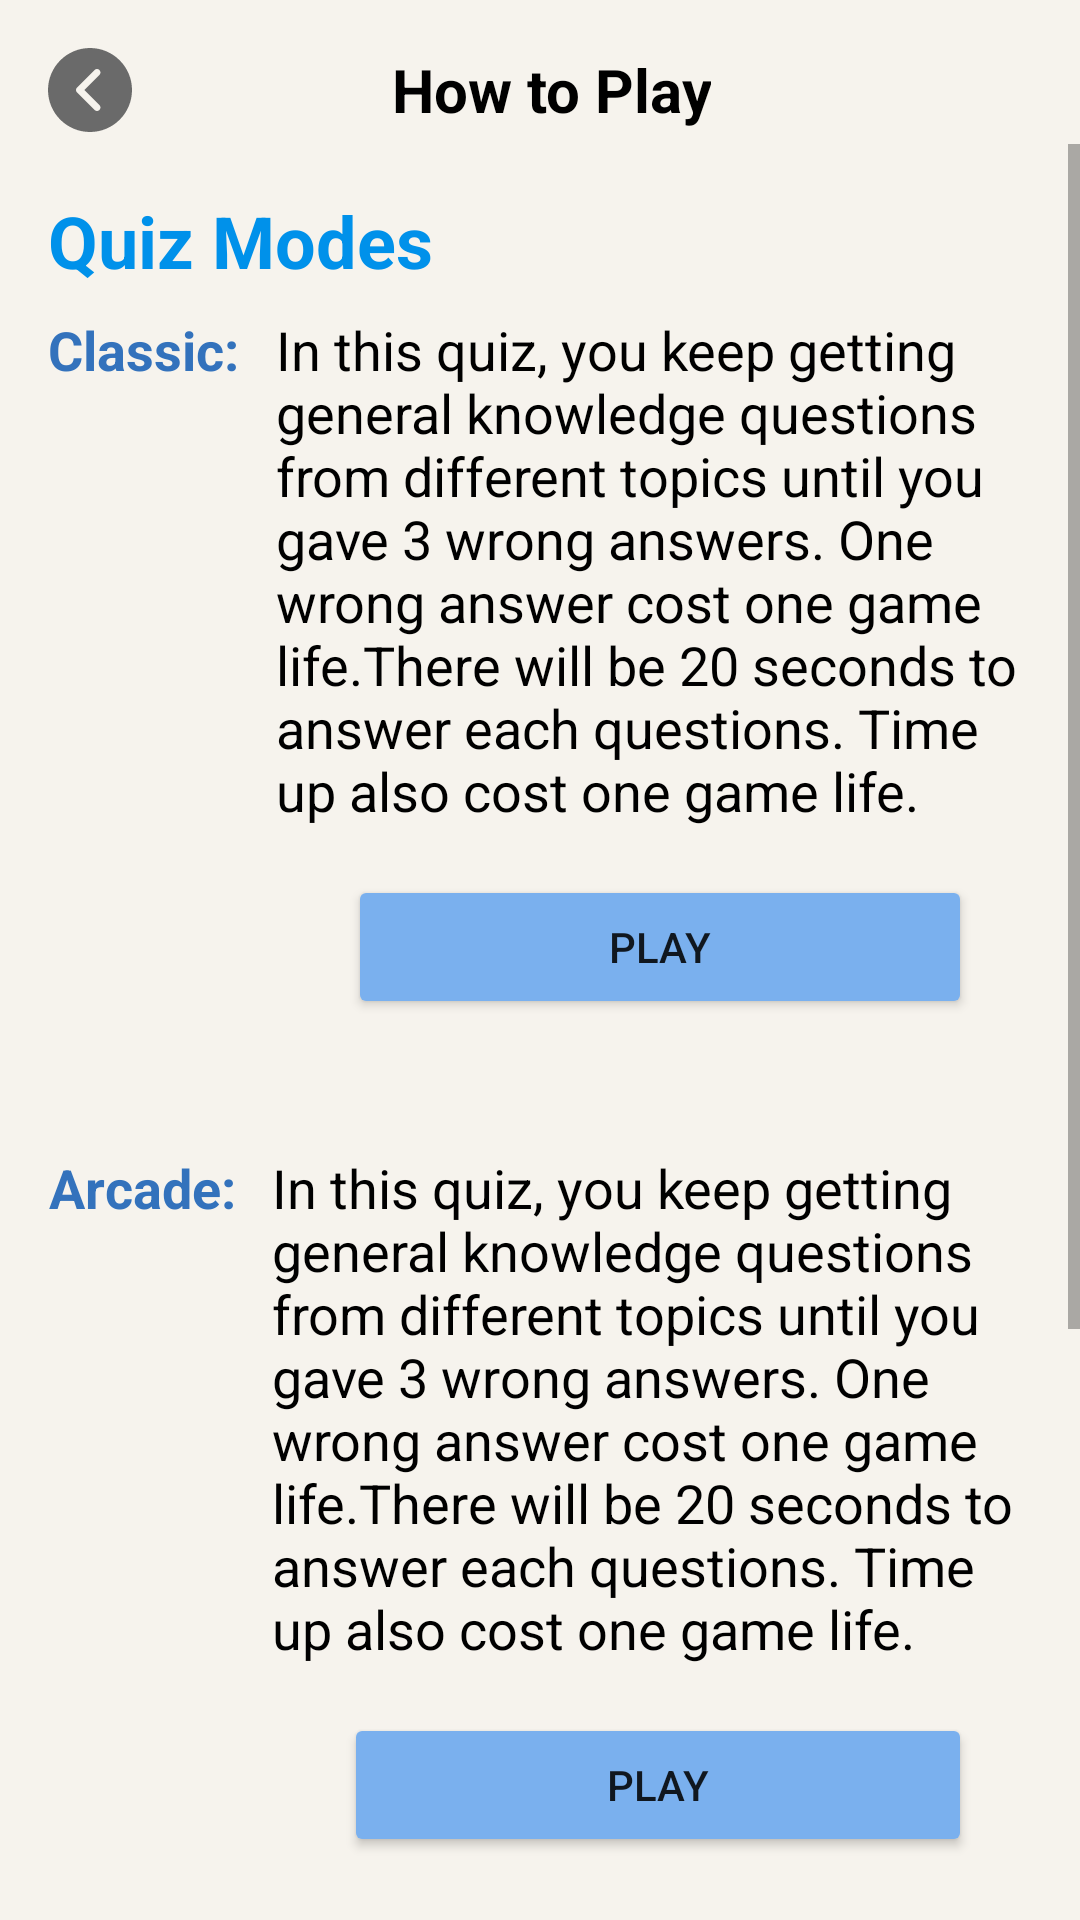

Named icons in this screenshot (1080×1920) and their bounding boxes, BBox(x1, y1, x2, y2):
Back Button: BBox(48, 48, 132, 132)
